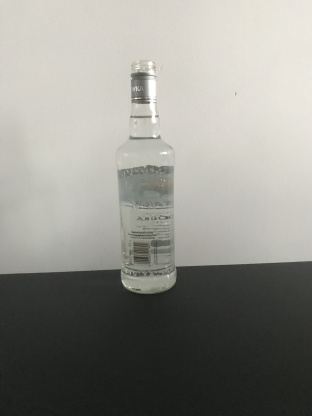nakretka: (128, 59, 158, 104)
